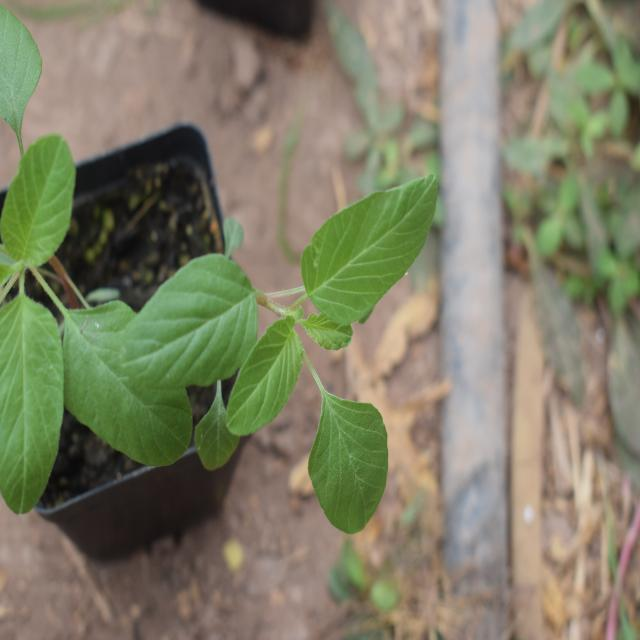pigweed: (147, 153, 435, 502)
